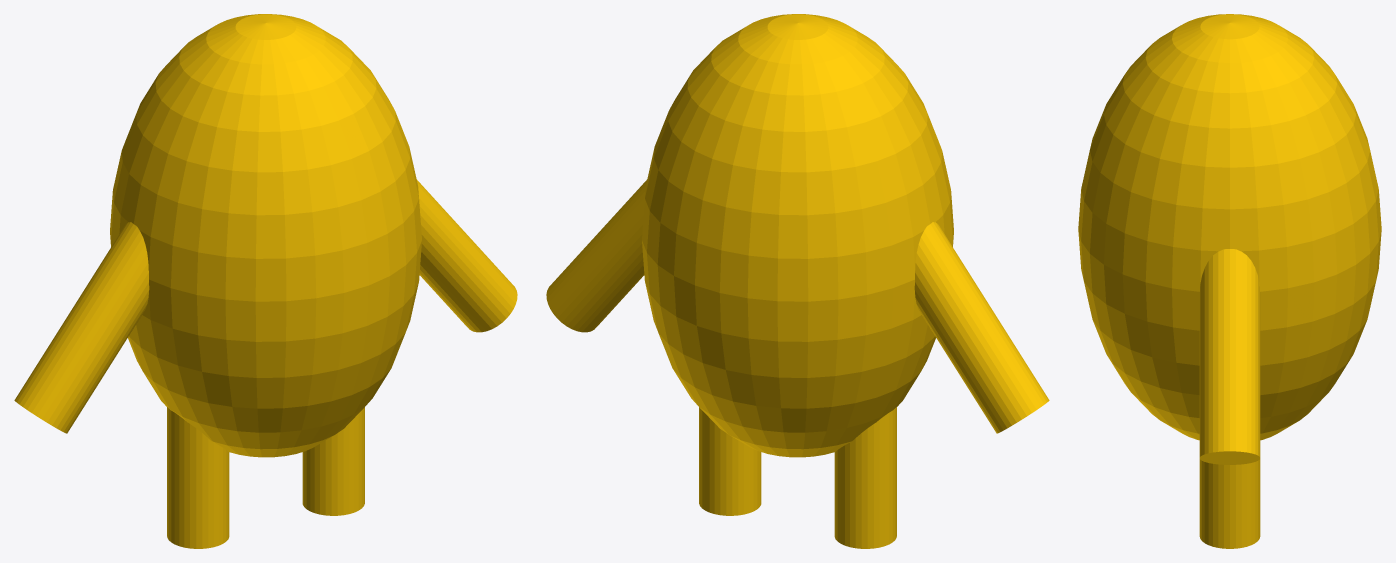
The model's file is sci-fi_3.glb.
3 views of the same model, side by side, from view 1: azimuth 30°, elevation 25°; view 2: azimuth 150°, elevation 25°; view 3: azimuth 270°, elevation 25° (orthographic). The views are drawn at different scales.
Visible parts, largest first — view 1: Sphere, Cylinder.003, Cylinder.002, Cylinder.001, Cylinder; view 2: Sphere, Cylinder.003, Cylinder.002, Cylinder.001, Cylinder; view 3: Sphere, Cylinder.002, Cylinder.
Part boxes in pixels (bbox=[...]): Sphere: bbox=[110, 14, 421, 457]; Cylinder.003: bbox=[14, 222, 149, 433]; Cylinder.002: bbox=[416, 179, 517, 332]; Cylinder.001: bbox=[167, 407, 229, 548]; Cylinder: bbox=[302, 407, 364, 515]; Sphere: bbox=[642, 14, 953, 457]; Cylinder.003: bbox=[914, 222, 1049, 433]; Cylinder.002: bbox=[546, 179, 647, 332]; Cylinder.001: bbox=[834, 407, 896, 548]; Cylinder: bbox=[699, 407, 761, 515]; Sphere: bbox=[1078, 14, 1381, 440]; Cylinder.002: bbox=[1199, 249, 1260, 464]; Cylinder: bbox=[1199, 459, 1260, 548].
Bounding box in the file's own units: 1.82 × 1.75 × 1.
